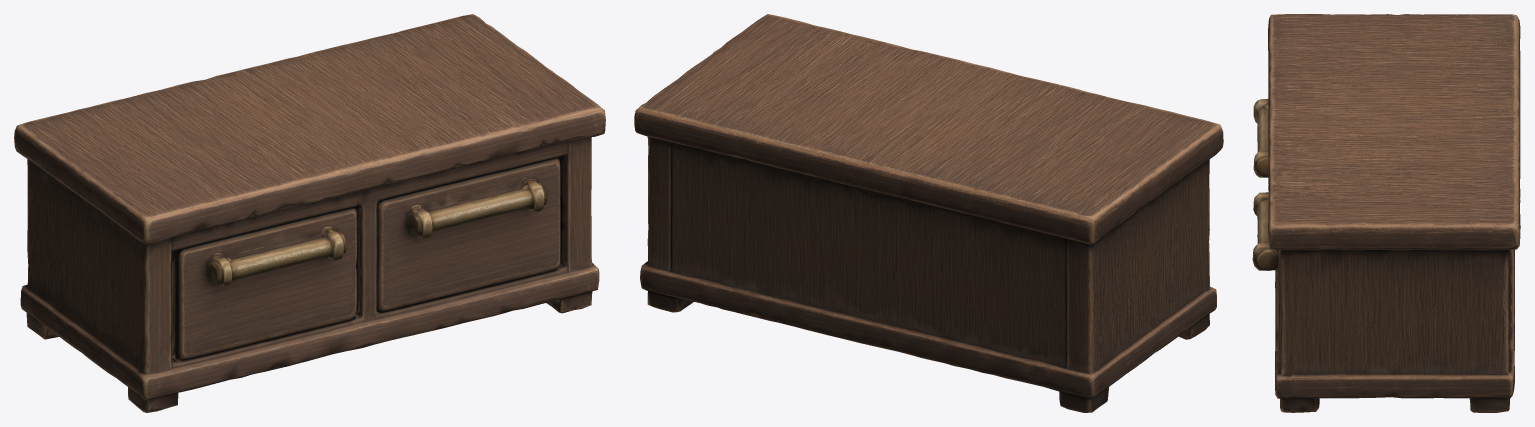
The model's file is Furn_HeavyDresser_Wide.fbx.
The picture shows the model from 3 angles, left to right: view 1: azimuth 30°, elevation 25°; view 2: azimuth 150°, elevation 25°; view 3: azimuth 270°, elevation 25°; orthographic projection. The views are drawn at different scales.
Visible parts, largest first — view 1: texture_mapping; view 2: texture_mapping; view 3: texture_mapping.
Part boxes in pixels (x1,y1,x2,y2): texture_mapping: (14, 14, 605, 412); texture_mapping: (634, 14, 1223, 412); texture_mapping: (1252, 14, 1520, 412).
Size of the model in its own units: 1 by 0.5301 by 0.4198.
1 material, 1 textured.
